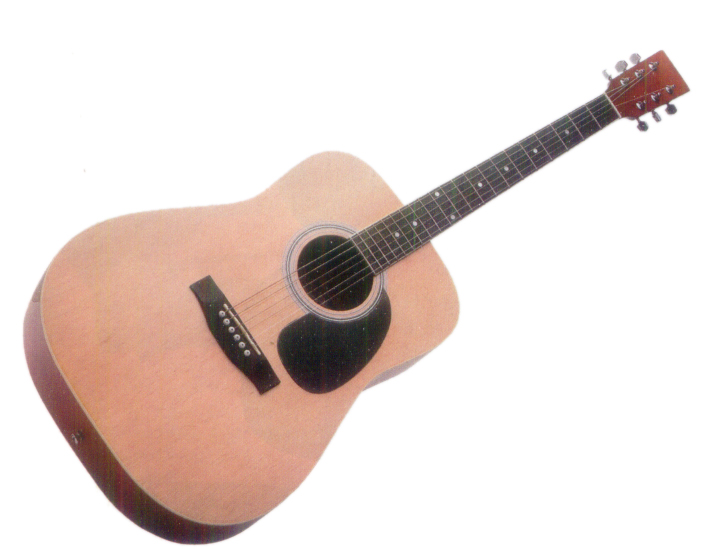guitar: (24, 47, 692, 546)
